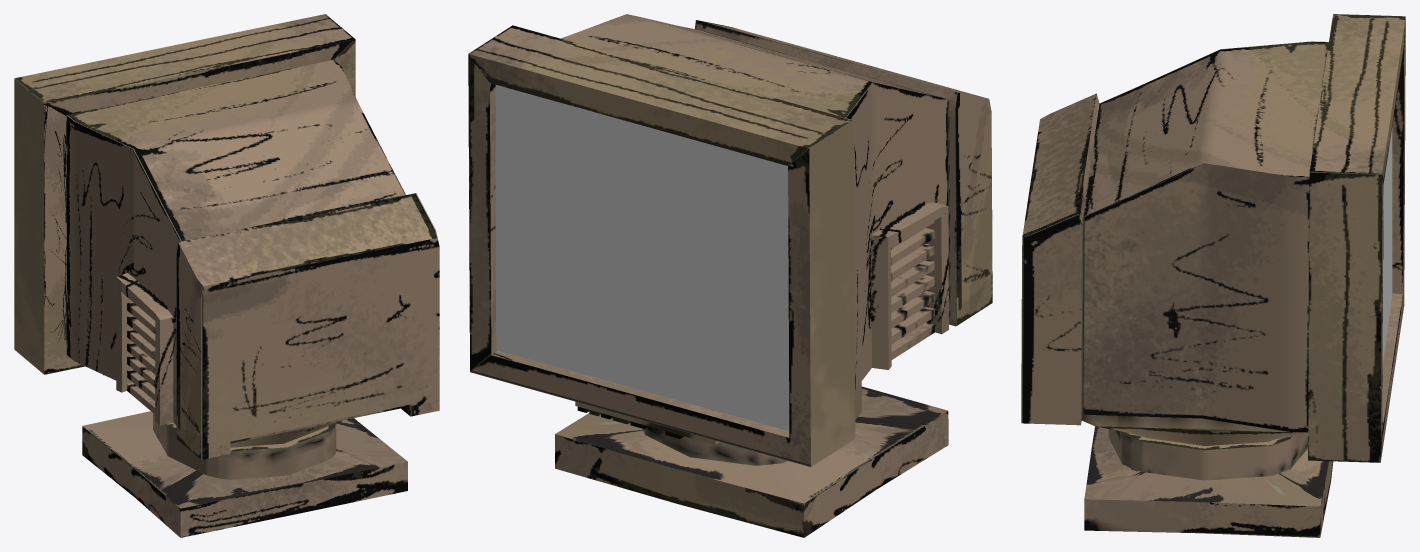
3 renders of one model, left to right at view 1: azimuth 30°, elevation 25°; view 2: azimuth 150°, elevation 25°; view 3: azimuth 270°, elevation 25°, orthographic. The views are drawn at different scales.
Visible parts, largest first — view 1: PC-2; view 2: PC-2, PC-2-Screen; view 3: PC-2, PC-2-Screen.
Boxes of the visible parts, <box> form: PC-2: <box>14,14,439,537</box>; PC-2: <box>468,14,992,537</box>; PC-2-Screen: <box>495,85,789,430</box>; PC-2: <box>1021,14,1405,537</box>; PC-2-Screen: <box>1382,128,1392,365</box>.
Bounding box in the file's own units: 11.79 × 13.42 × 12.04.
Materials: 1 (1 with a texture image).
